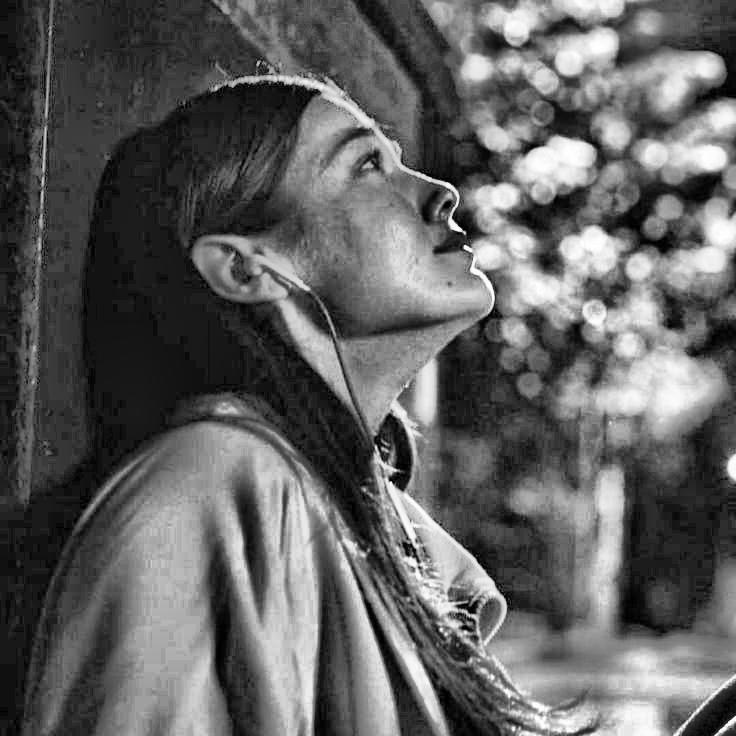sad: (282, 105, 503, 367)
